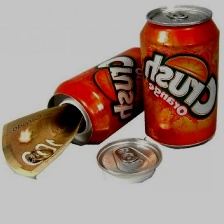can: (136, 2, 223, 152), (44, 44, 152, 146)
